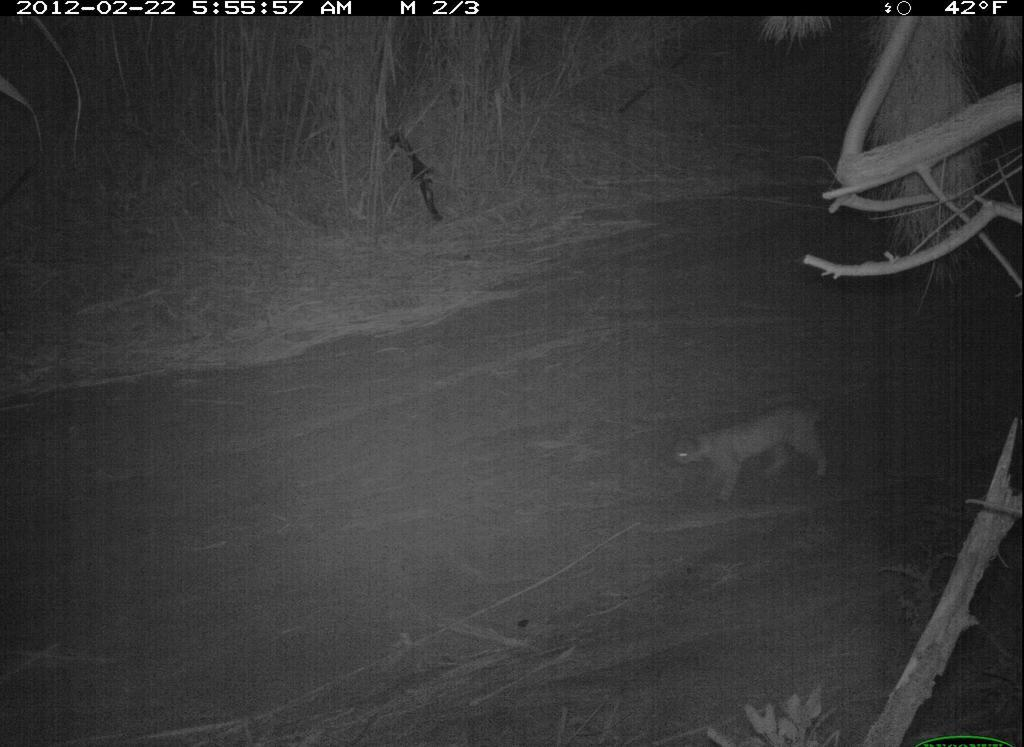bobcat: (656, 388, 844, 524)
